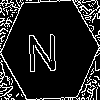N: (25, 25, 59, 72)
